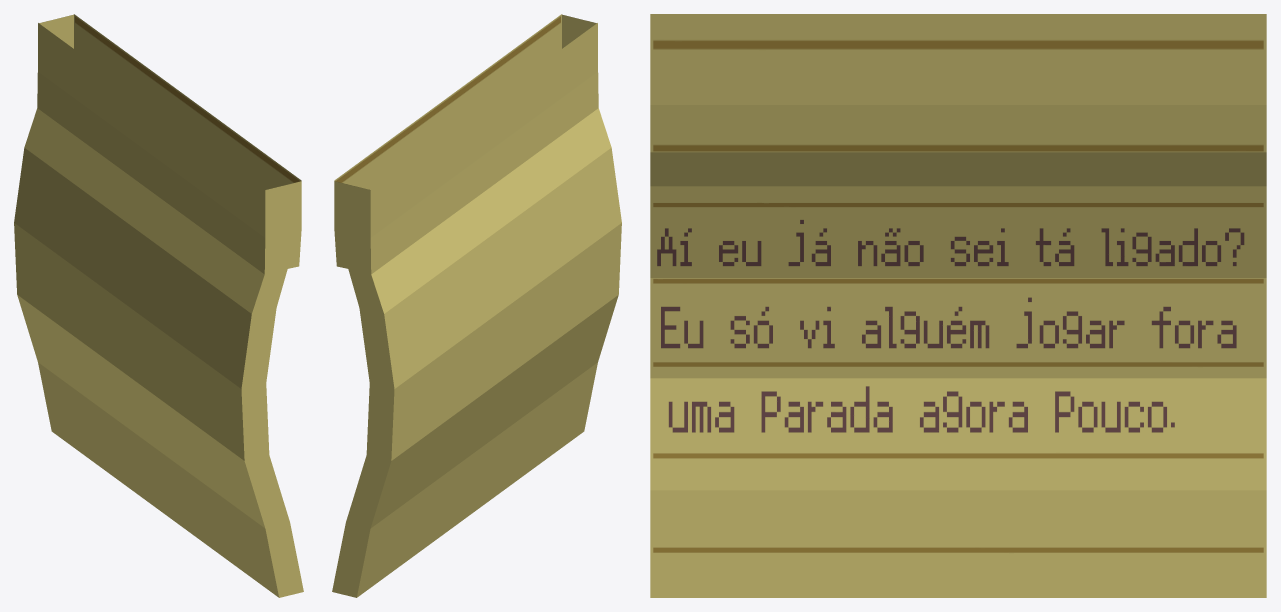
Rendered from pouistiiti1.fbx.
The picture shows the model from 3 angles, left to right: view 1: azimuth 30°, elevation 25°; view 2: azimuth 150°, elevation 25°; view 3: azimuth 270°, elevation 25°; orthographic projection. The views are drawn at different scales.
Parts seen in each view (by area): view 1: Cube; view 2: Cube; view 3: Cube.
Boxes of the visible parts, bbox=[...] form: Cube: bbox=[14, 14, 303, 597]; Cube: bbox=[332, 14, 621, 597]; Cube: bbox=[650, 14, 1266, 597].
Size of the model in its own units: 31.71 by 200 by 200.
1 material, 1 textured.
